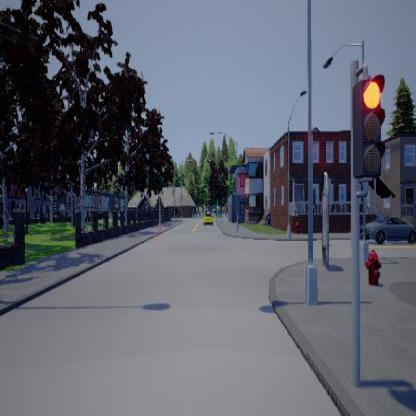traffic_light_red: (352, 62, 384, 197)
vehicle: (358, 216, 416, 246), (202, 208, 213, 227)
